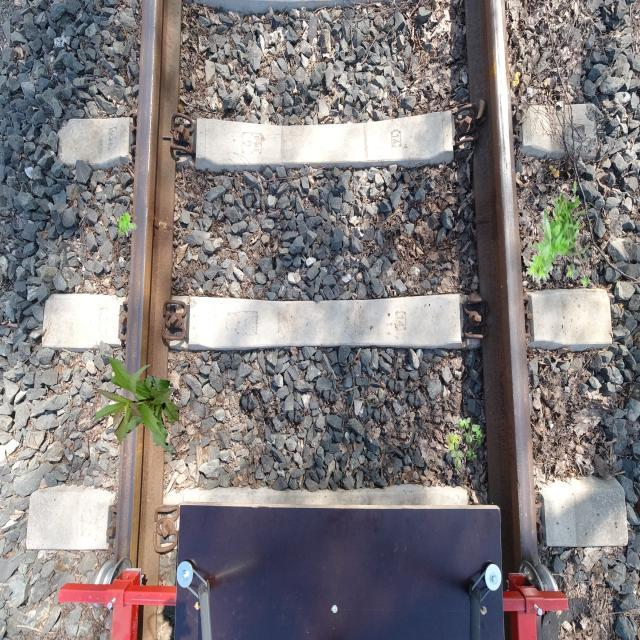Plant: (91, 356, 180, 454), (526, 181, 590, 288), (446, 415, 484, 470), (117, 212, 138, 237)
